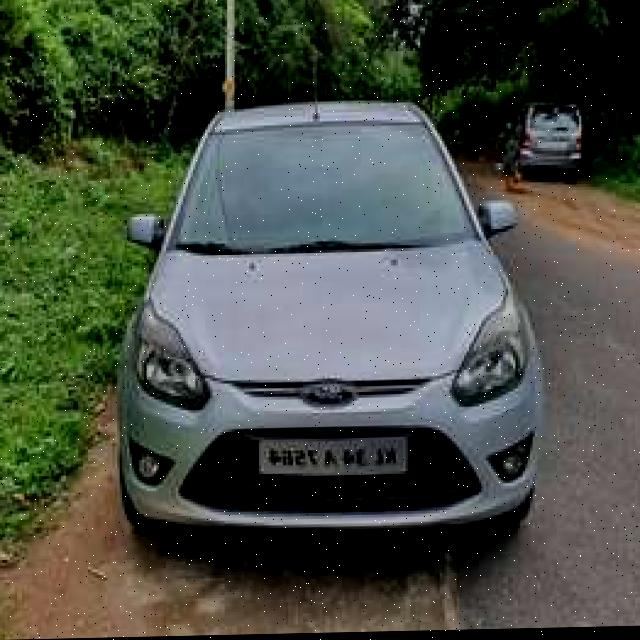plate: (256, 433, 409, 480)
